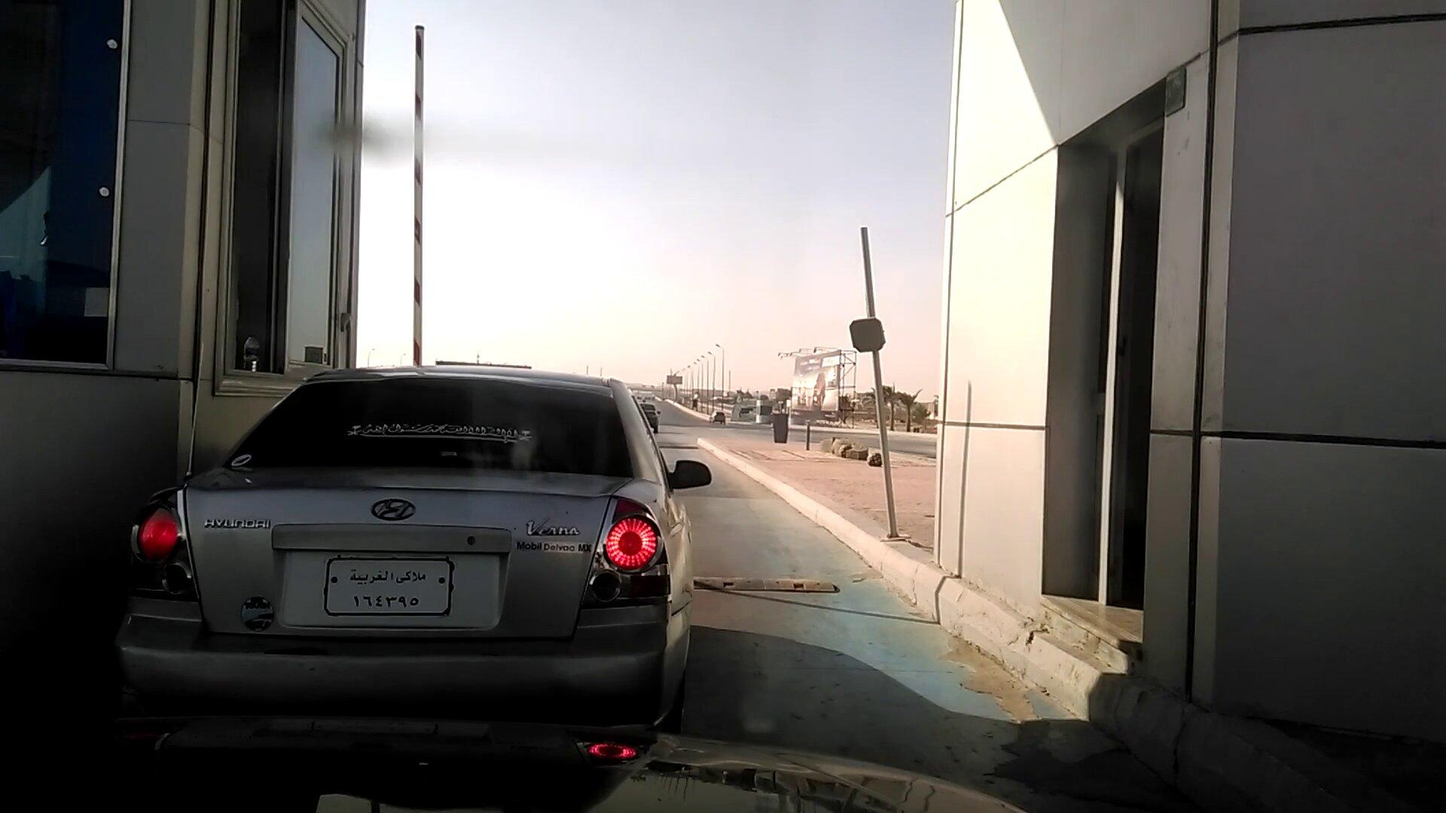Bump: (688, 568, 846, 598)
